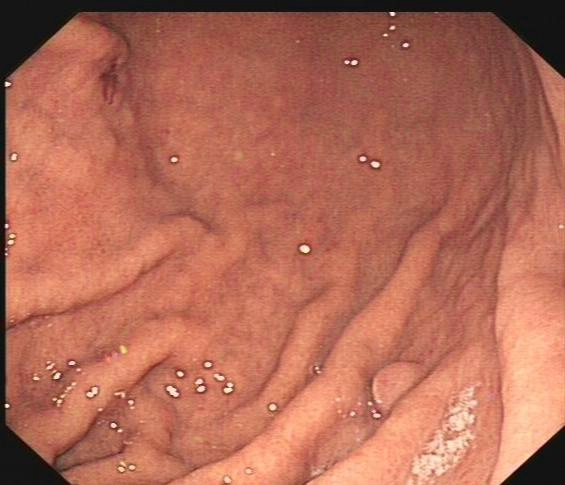Polyp: (357, 358, 438, 413)
